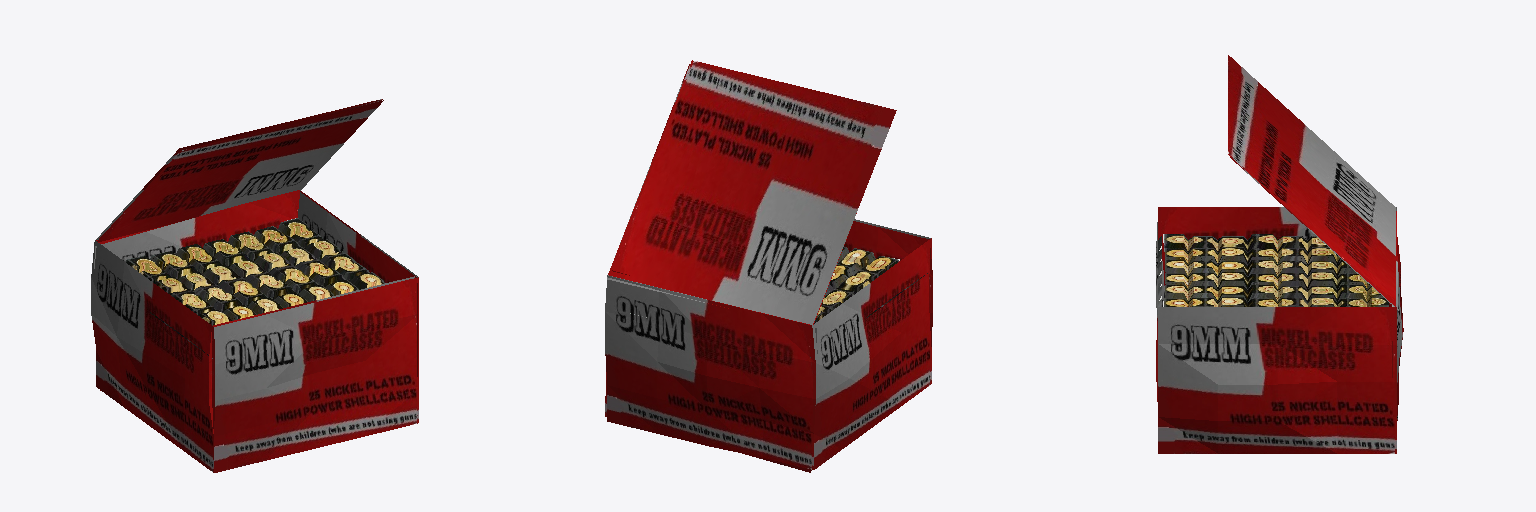
The picture shows the model from 3 angles: view 1: azimuth 30°, elevation 25°; view 2: azimuth 150°, elevation 25°; view 3: azimuth 270°, elevation 25°; orthographic projection.
Parts seen in each view (by area): view 1: Box001, Object007, Object002, Object004, Object006, Object008, Object003, Object009; view 2: Object003, Object005, Object007, Object002, Object009; view 3: Box001, Object003, Object002, Object007, Object005.
Boxes of the visible parts, box(x1,y1,x2,y2) form: Box001: box(214, 191, 418, 472); Object007: box(91, 240, 214, 472); Object002: box(126, 218, 384, 358); Object004: box(97, 100, 383, 241); Object006: box(94, 190, 299, 390); Object008: box(298, 192, 417, 376); Object003: box(96, 99, 382, 239); Object009: box(209, 276, 416, 433); Object003: box(608, 60, 896, 324); Object005: box(605, 275, 815, 469); Object007: box(812, 238, 931, 469); Object002: box(630, 247, 927, 357); Object009: box(844, 221, 932, 346); Box001: box(1156, 222, 1396, 453); Object003: box(1228, 55, 1395, 306); Object002: box(1158, 234, 1393, 306); Object007: box(1158, 207, 1396, 239); Object005: box(1397, 237, 1403, 420).
Size of the model in its own units: 43.8 by 57.51 by 42.45.
Materials: 2 (2 with a texture image).